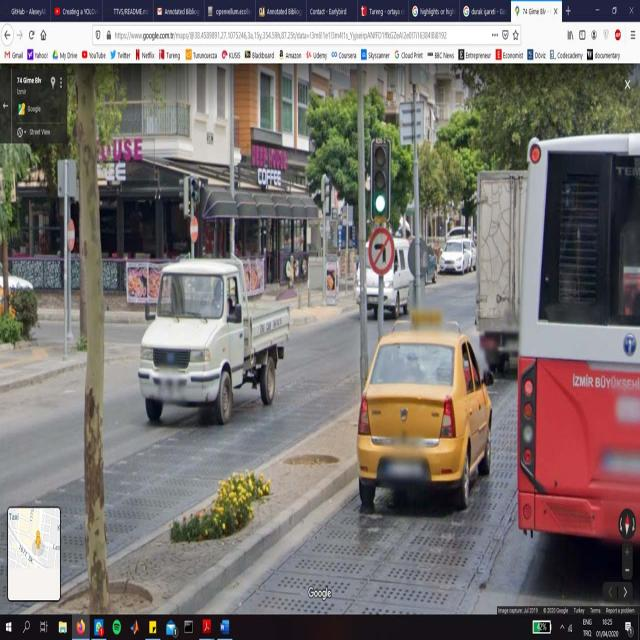soladonulmez: (369, 228, 393, 273)
yesil: (372, 140, 390, 223)
